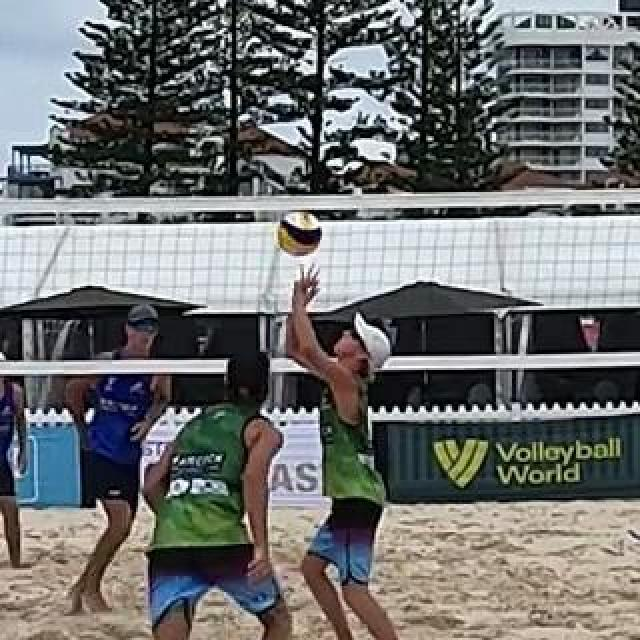volleyball: (277, 213, 323, 259)
